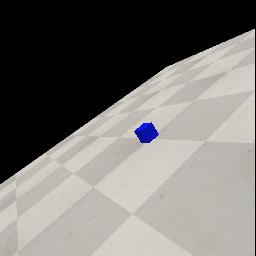box: (134, 122, 159, 143)
